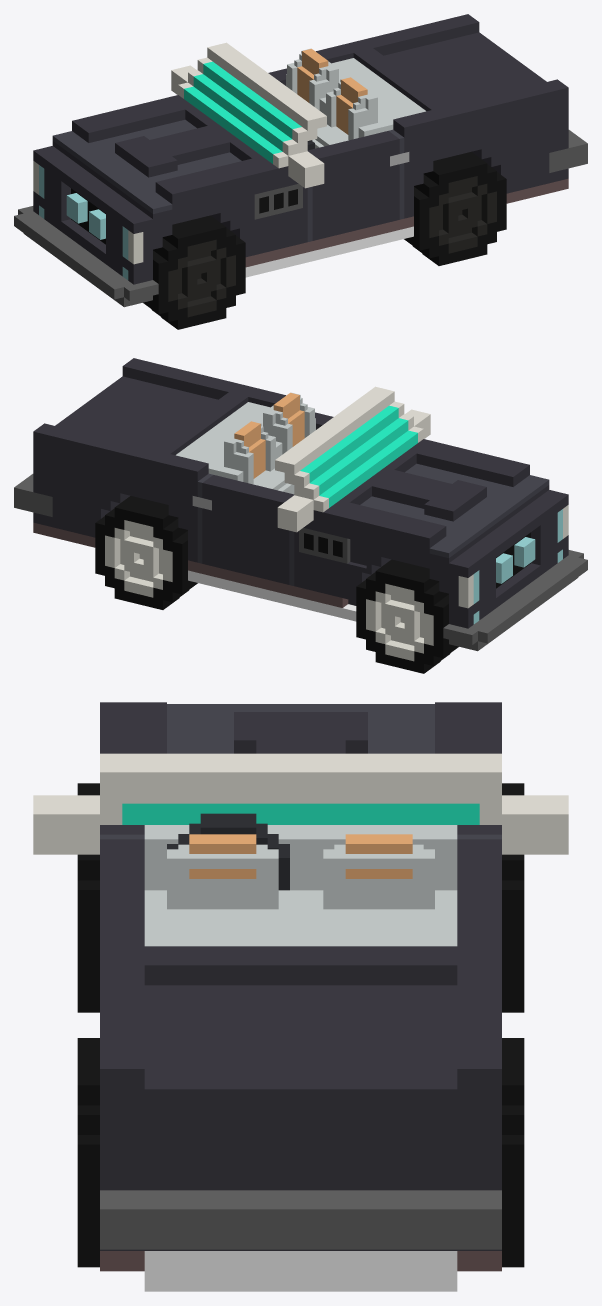
File: grayclassiccar-len2.glb
3 views of the same model, one above another, from view 1: azimuth 30°, elevation 25°; view 2: azimuth 150°, elevation 25°; view 3: azimuth 270°, elevation 25° (orthographic). The views are drawn at different scales.
Parts seen in each view (by area): view 1: _0; view 2: _0; view 3: _0.
Boxes of the visible parts, x1=… form: _0: x1=14, y1=14, x2=587, y2=329; _0: x1=14, y1=358, x2=587, y2=673; _0: x1=33, y1=702, x2=568, y2=1291.
Size of the model in its own units: 0.147 by 0.051 by 0.072.
